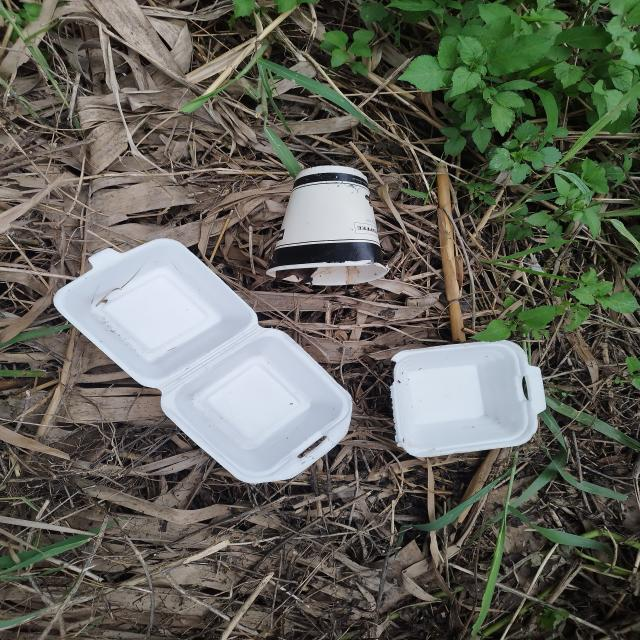foam box: (54, 238, 352, 484), (390, 339, 547, 457)
plastic glass: (267, 166, 388, 286)
